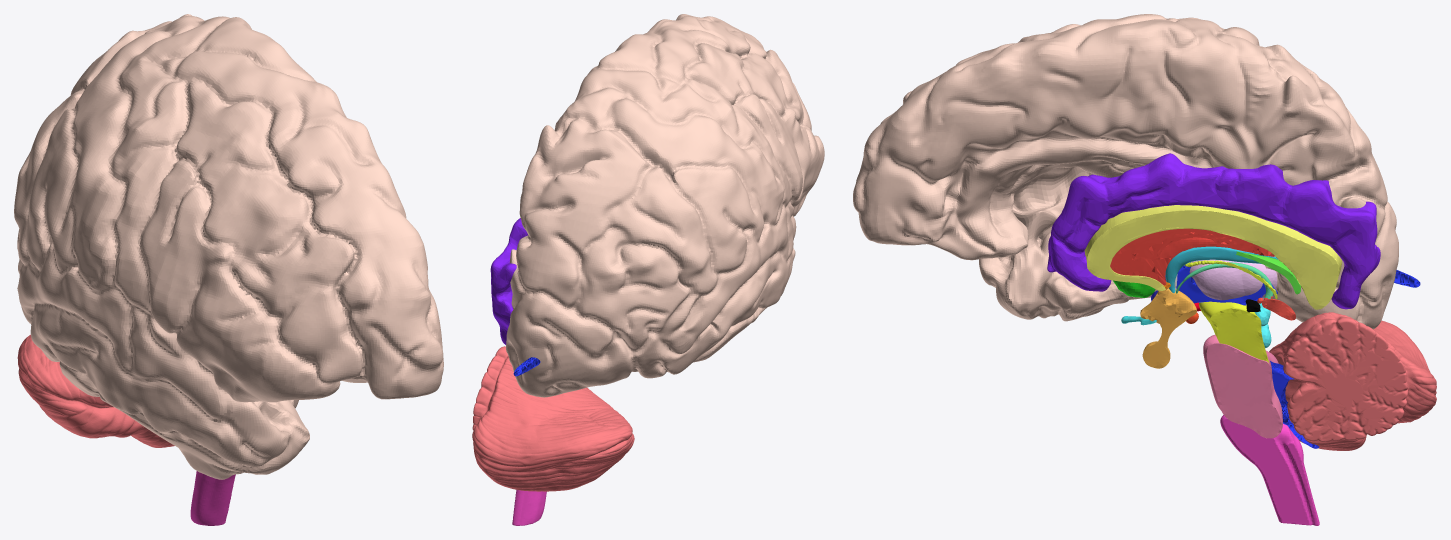
The model's file is brain-model.glb.
3 views of the same model, side by side, from view 1: azimuth 30°, elevation 25°; view 2: azimuth 150°, elevation 25°; view 3: azimuth 270°, elevation 25° (orthographic). The views are drawn at different scales.
Visible parts, largest first — view 1: Right_Hemisphere_transparent, Ventricular_system; view 2: Right_Hemisphere_transparent, Ventricular_system; view 3: Right_Hemisphere_transparent, Ventricular_system, Stria_Medullaris.
Boxes of the visible parts, x1=… form: Right_Hemisphere_transparent: x1=14, y1=14, x2=443, y2=479; Ventricular_system: x1=17, y1=334, x2=235, y2=525; Right_Hemisphere_transparent: x1=506, y1=14, x2=824, y2=397; Ventricular_system: x1=472, y1=218, x2=634, y2=525; Right_Hemisphere_transparent: x1=853, y1=14, x2=1398, y2=329; Ventricular_system: x1=1047, y1=153, x2=1436, y2=525; Stria_Medullaris: x1=1165, y1=246, x2=1278, y2=298.
Size of the model in its own units: 54.87 by 121 by 134.
3 materials, 3 textured.
